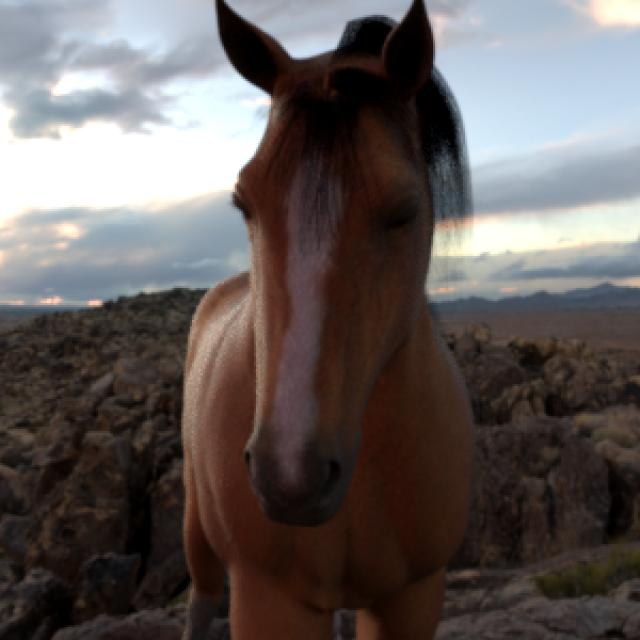horse: (182, 0, 471, 640)
